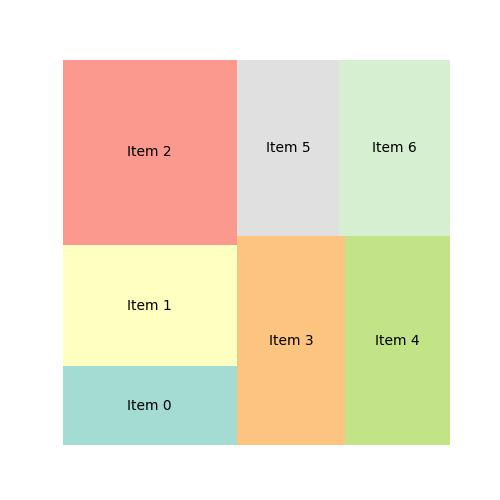rectangle: (64, 59, 236, 246), (236, 236, 346, 446), (345, 238, 451, 446), (62, 246, 237, 364), (340, 59, 450, 237), (236, 59, 340, 237), (62, 363, 234, 447)
